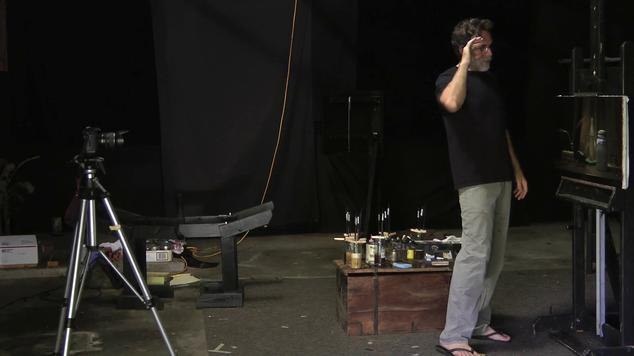hands_up: (425, 34, 522, 293)
